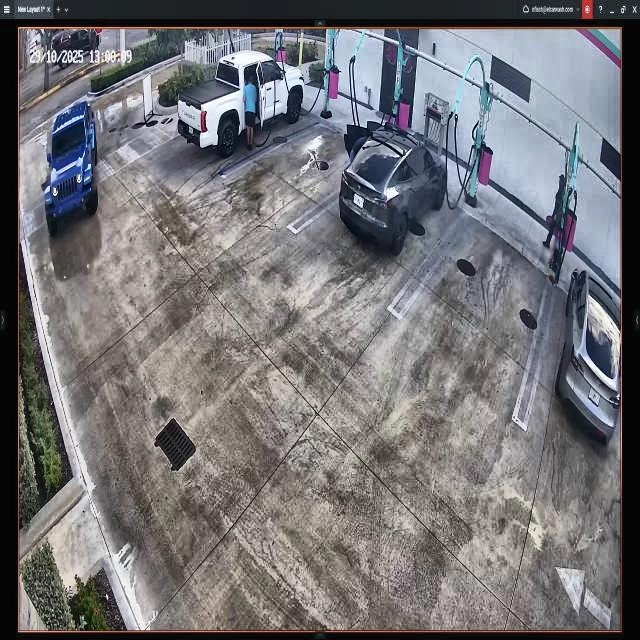Car: (339, 125, 448, 252), (177, 49, 304, 156)
